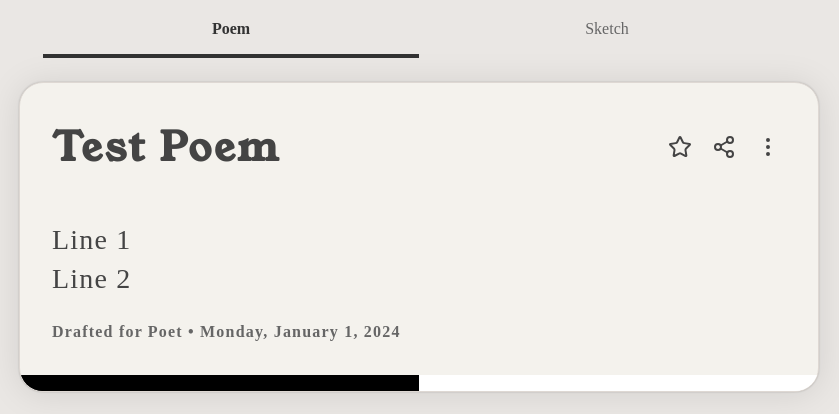
Poem › opens menu and shows options
Click the button with test id "menu-button": (768, 147) [750,129,786,165]
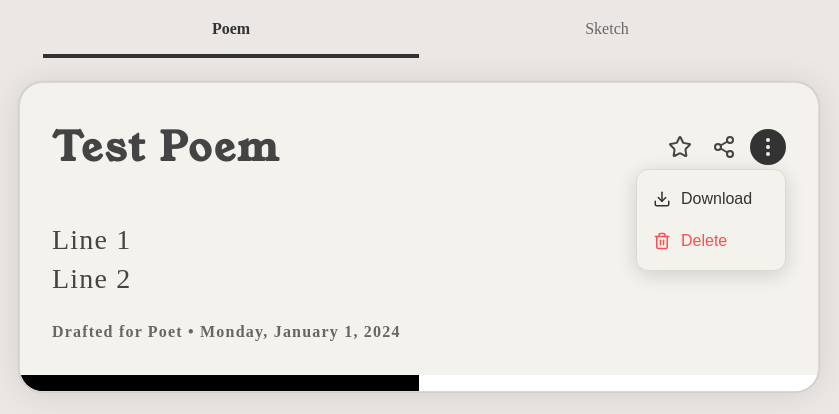
Expected: the button "Download" is shown, [637,178,785,220]
Expected: the button "Delete" is shown, [637,220,785,262]
